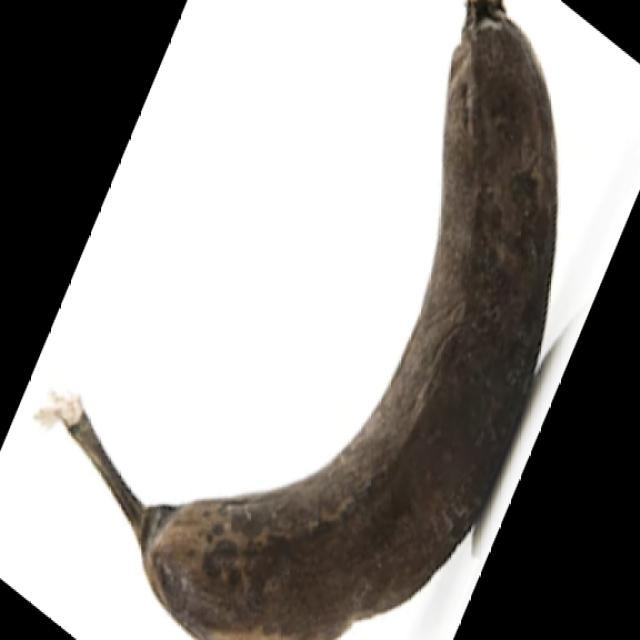Rotten: (56, 0, 557, 640)
